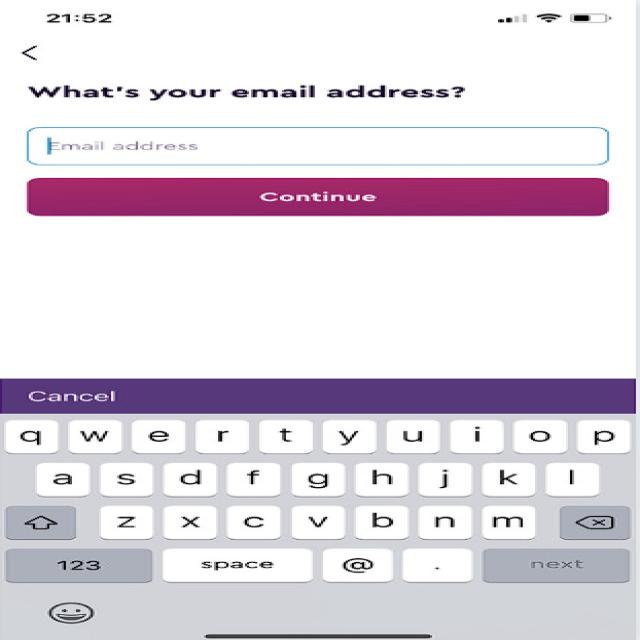button: (10, 172, 634, 227), (0, 374, 640, 416)
icon button: (10, 30, 89, 68)
input: (9, 116, 620, 169)
spacer: (18, 232, 628, 374)
text: (21, 73, 498, 110)
